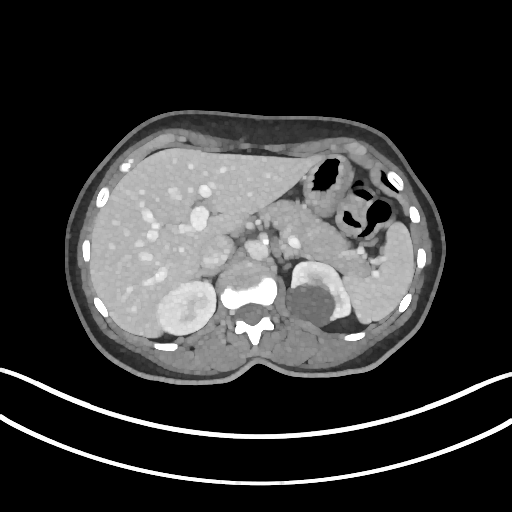Lesion: (286, 282, 340, 334)
